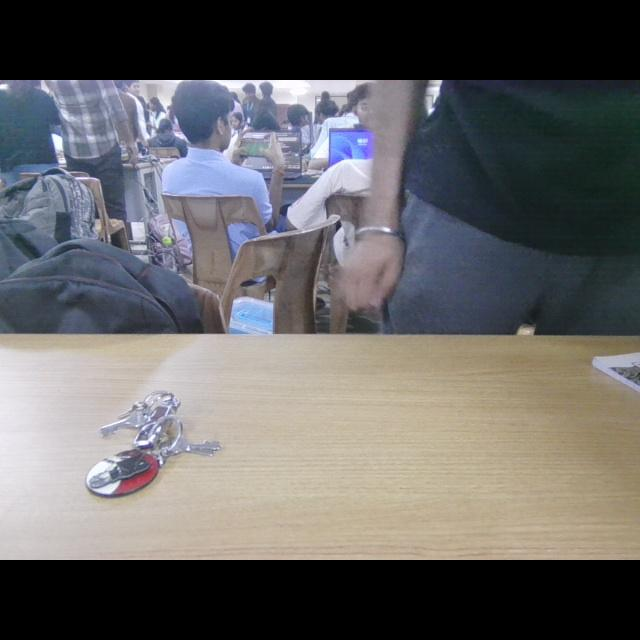keys: (75, 384, 237, 534)
